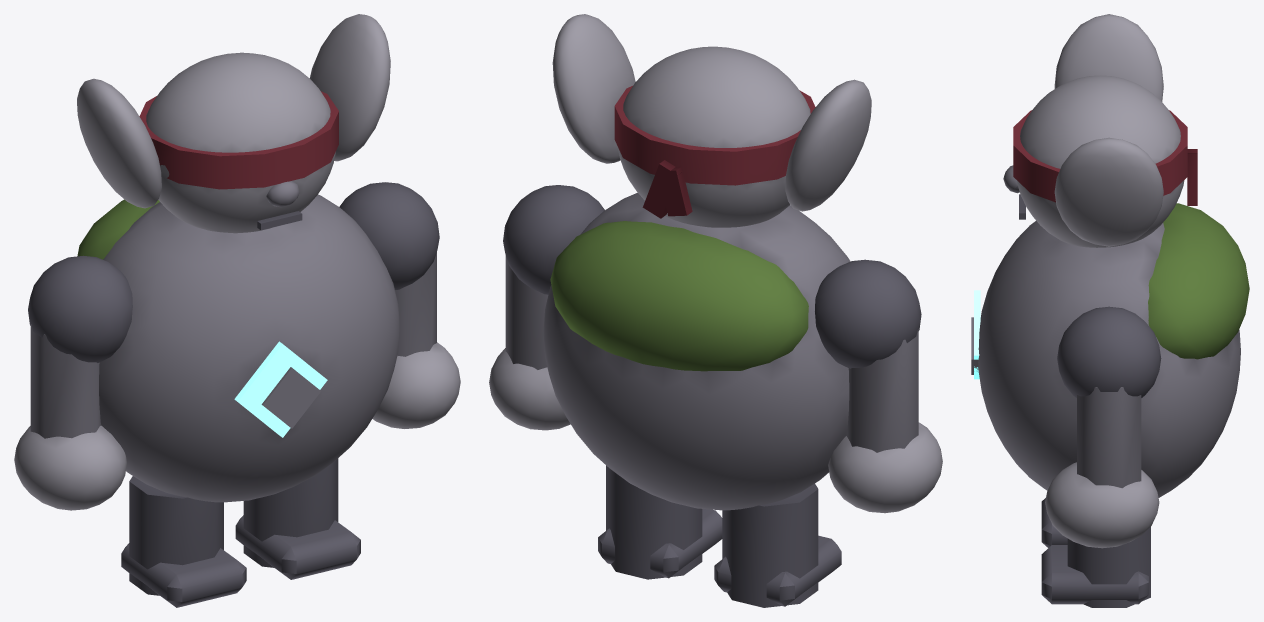
File: guardian.glb
3 views of the same model, side by side, from view 1: azimuth 30°, elevation 25°; view 2: azimuth 150°, elevation 25°; view 3: azimuth 270°, elevation 25° (orthographic). The views are drawn at different scales.
Parts seen in each view (by area): view 1: guardian, guardian.head, guardian.armR, guardian.armL; view 2: guardian, guardian.head, guardian.armR, guardian.armL; view 3: guardian, guardian.head, guardian.armL.
Part boxes in pixels (<box>): guardian: <box>77,194,399,607</box>; guardian.head: <box>77,14,390,233</box>; guardian.armR: <box>14,255,132,510</box>; guardian.armL: <box>339,182,460,428</box>; guardian: <box>543,192,850,607</box>; guardian.head: <box>552,14,871,227</box>; guardian.armR: <box>815,259,942,513</box>; guardian.armL: <box>489,185,604,430</box>; guardian: <box>971,203,1249,607</box>; guardian.head: <box>1003,14,1197,247</box>; guardian.armL: <box>1045,306,1161,548</box>.
Size of the model in its own units: 2.7 by 3.09 by 1.61.
